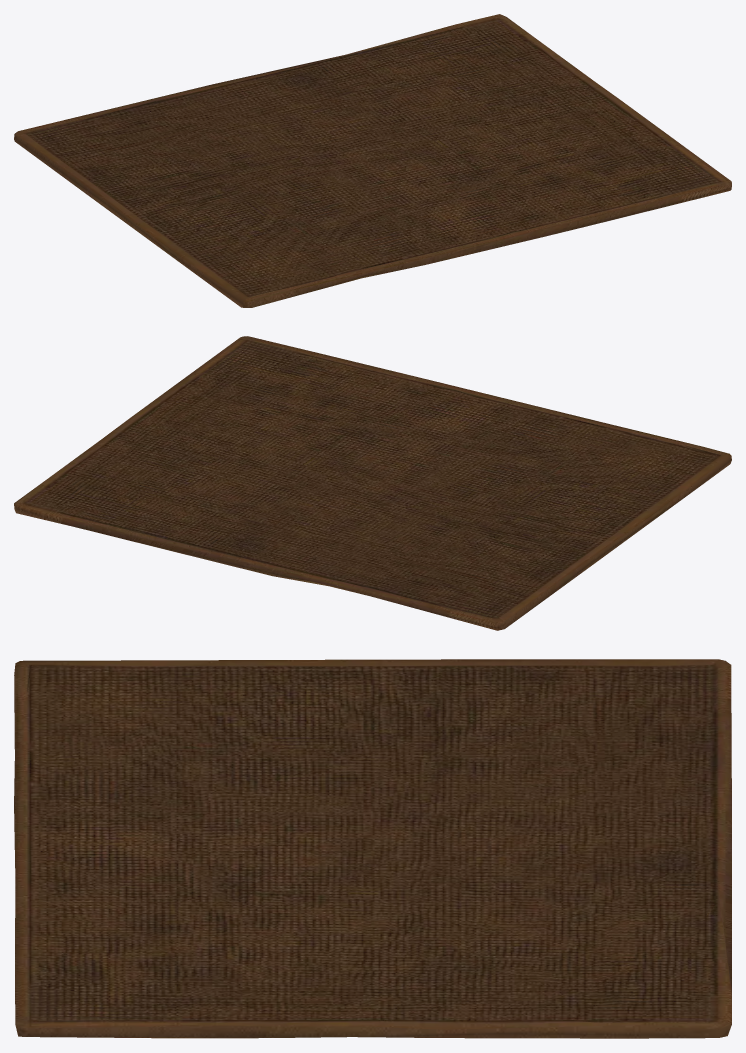
The model's file is carpet.glb.
3 renders of one model, top to bottom at view 1: azimuth 30°, elevation 25°; view 2: azimuth 150°, elevation 25°; view 3: azimuth 270°, elevation 25°, orthographic. The views are drawn at different scales.
Parts seen in each view (by area): view 1: Mesh1.0; view 2: Mesh1.0; view 3: Mesh1.0.
Boxes of the visible parts, <box> form: Mesh1.0: <box>14,14,731,307</box>; Mesh1.0: <box>14,336,731,630</box>; Mesh1.0: <box>14,659,731,1038</box>.
Size of the model in its own units: 1.91 by 0.0317 by 1.57.
1 material, 1 textured.
